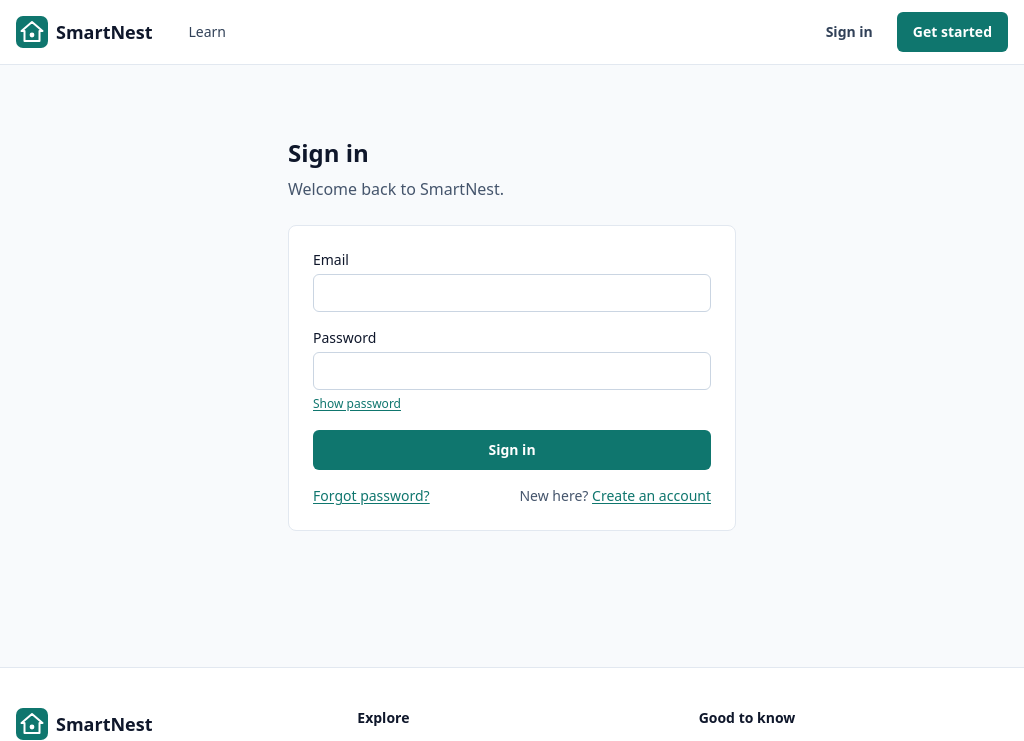
sign in › explains when the server cannot be reached
Type "asha@example.com" into the field labelled "Email" at point(512, 293), box [313,274,711,312]
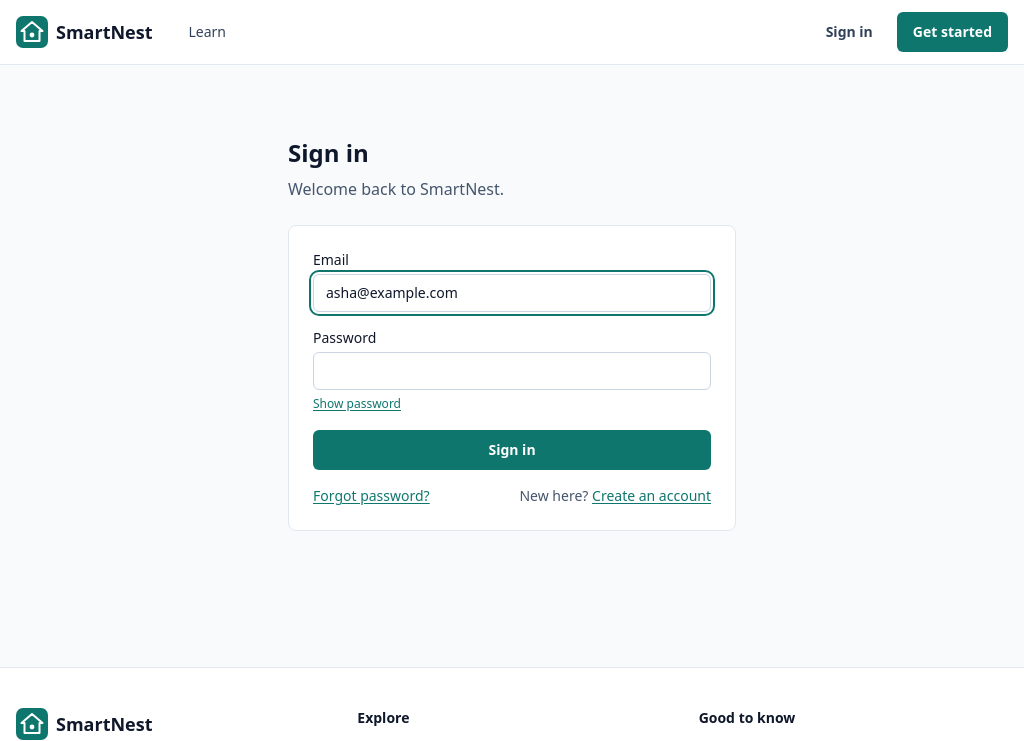
Type "x" into the password field labelled "Password" at point(512, 371), box [313,352,711,390]
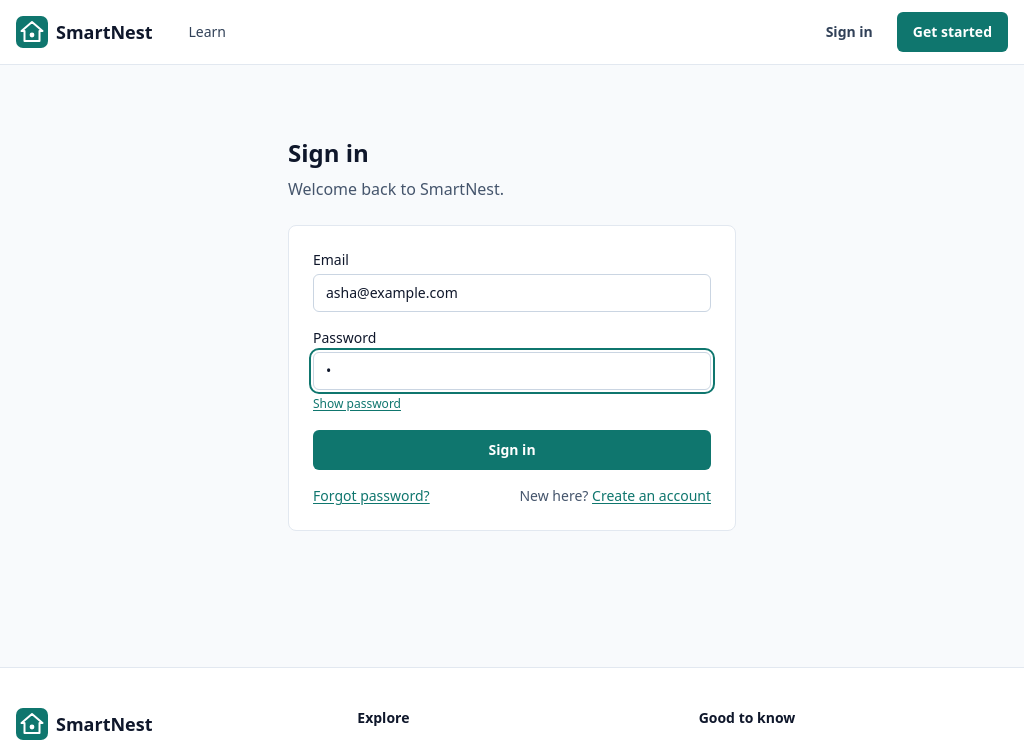
Click the button "Sign in" at point(512, 450), box [313,430,711,470]
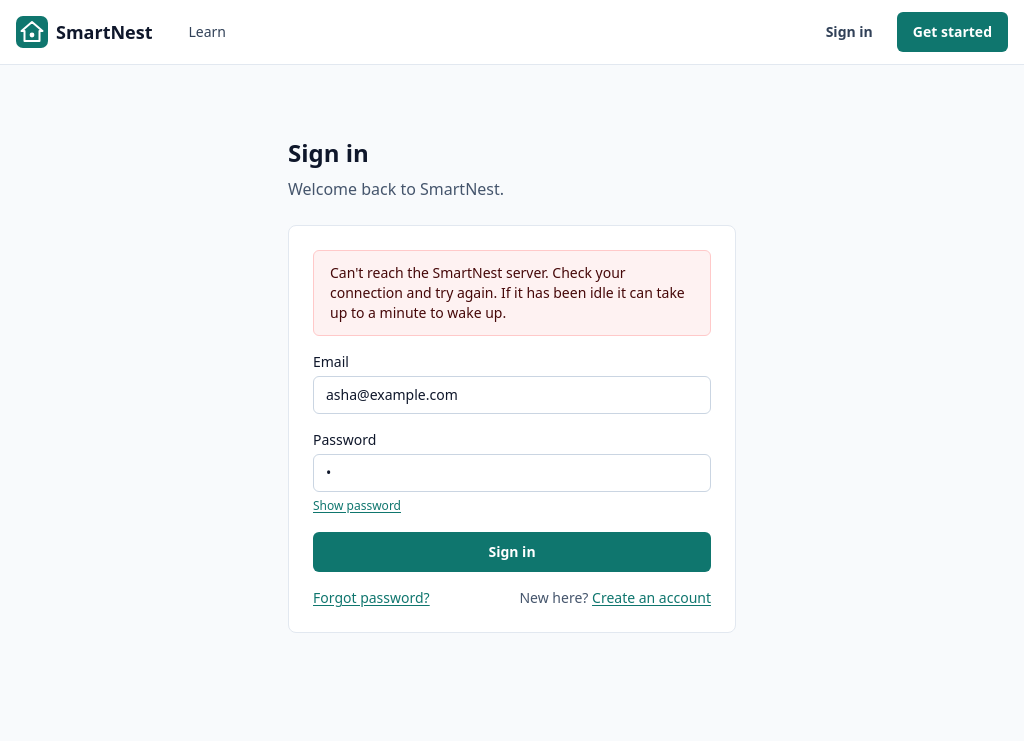
expect the message shows "Can't reach the SmartNest server": met, box [330,263,685,322]
